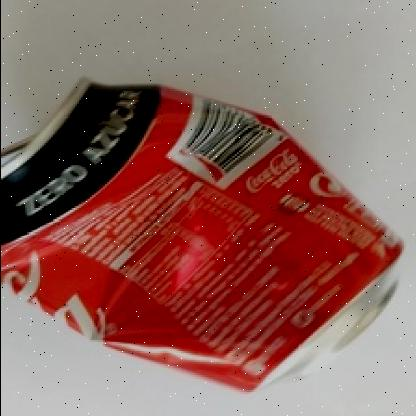Can: (0, 80, 404, 390)
